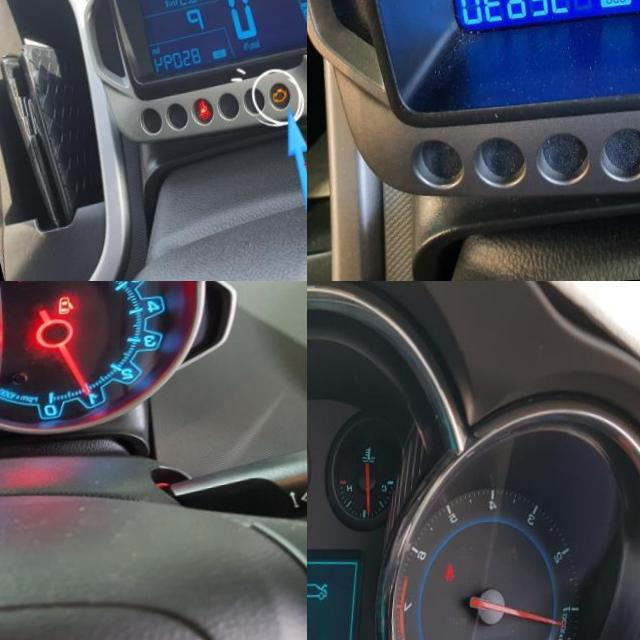Doors: (59, 299, 77, 319)
